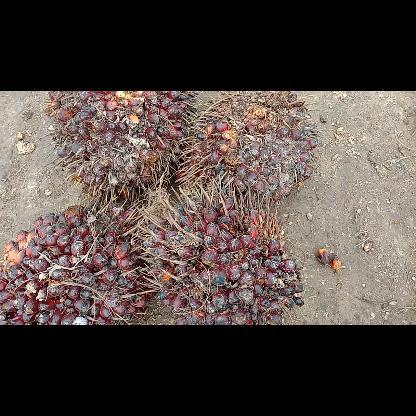TBS masak: (141, 174, 304, 324), (0, 196, 155, 324), (42, 90, 200, 202), (180, 90, 322, 206)
